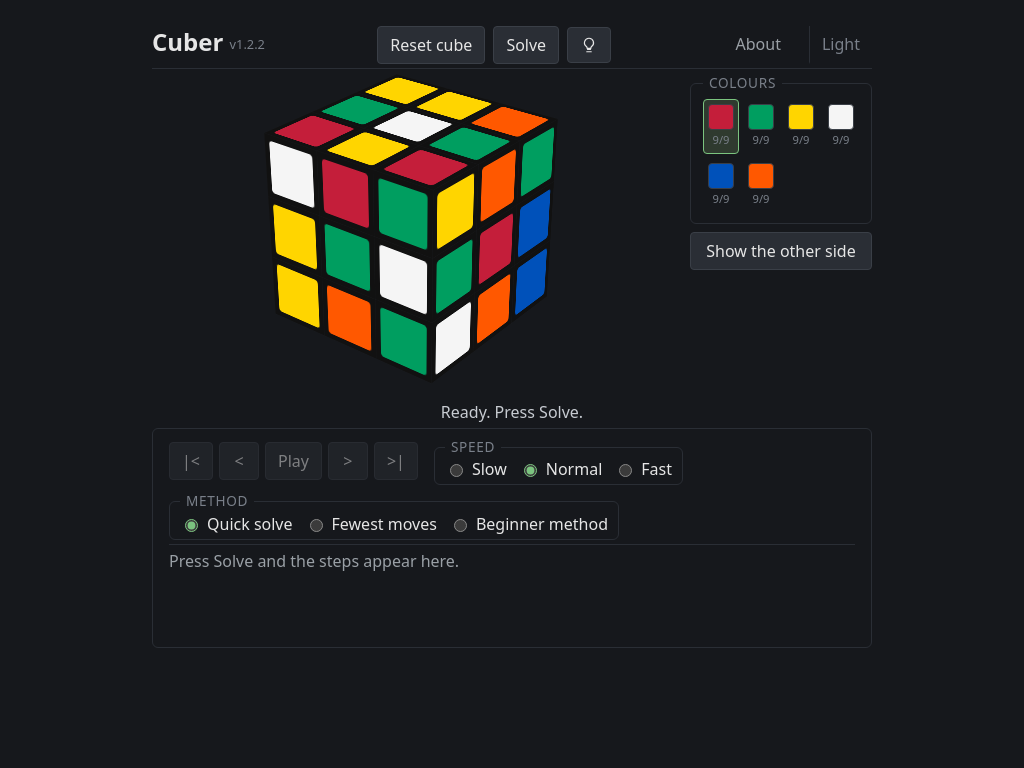
Test: the method › empties the box when it changes with a solution showing
Click the button "Solve" at (526, 45), box x1=493 y1=26 x2=559 y2=64
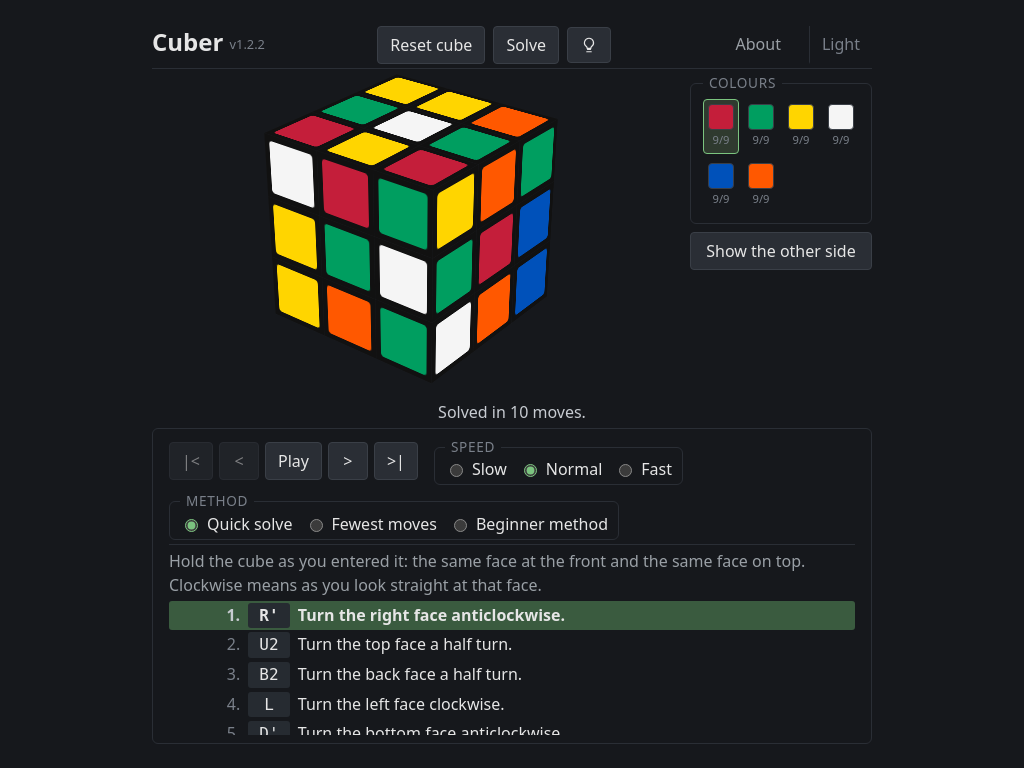
Click the radio button labelled "Fewest moves" at (316, 525), box x1=310 y1=519 x2=322 y2=532
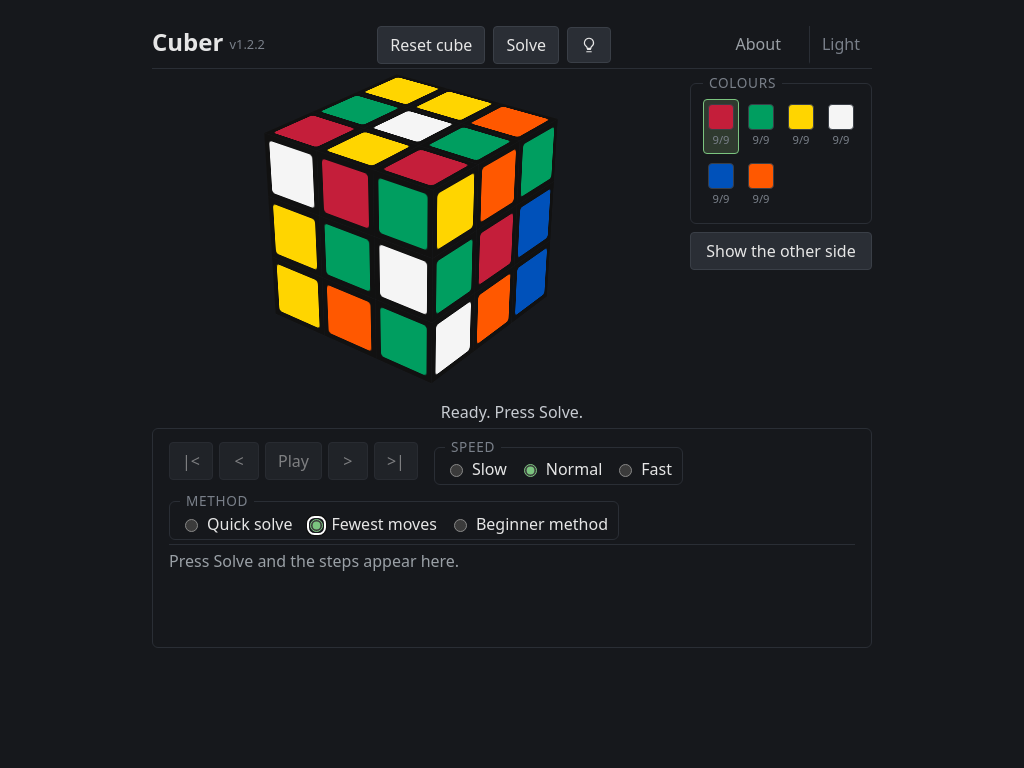
expect the text "Press Solve and the steps appear here." is shown: met, box x1=169 y1=550 x2=459 y2=572
expect the message reads "Ready. Press Solve.": met, box x1=441 y1=401 x2=583 y2=423
